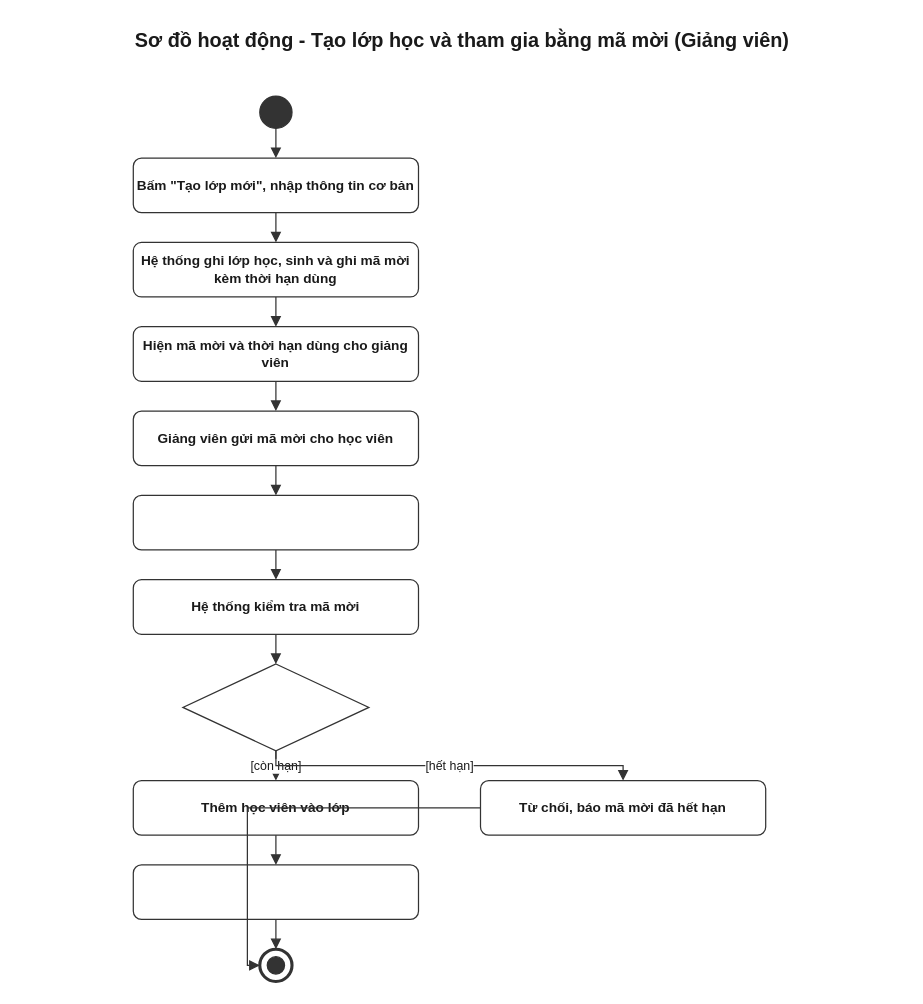
Image size: 923x1004. Some labels were removed from this diagram. The shapes that lost their labels are listed below. From the top down, each one's box as (x1, y1, x2, y2) in pixels, then its label:
(132, 494, 418, 550): Sinh viên nhập mã mời để tự tham gia lớp
(182, 663, 369, 751): Mã mời còn trong thời hạn dùng?
(132, 864, 418, 919): Báo vào lớp thành công
